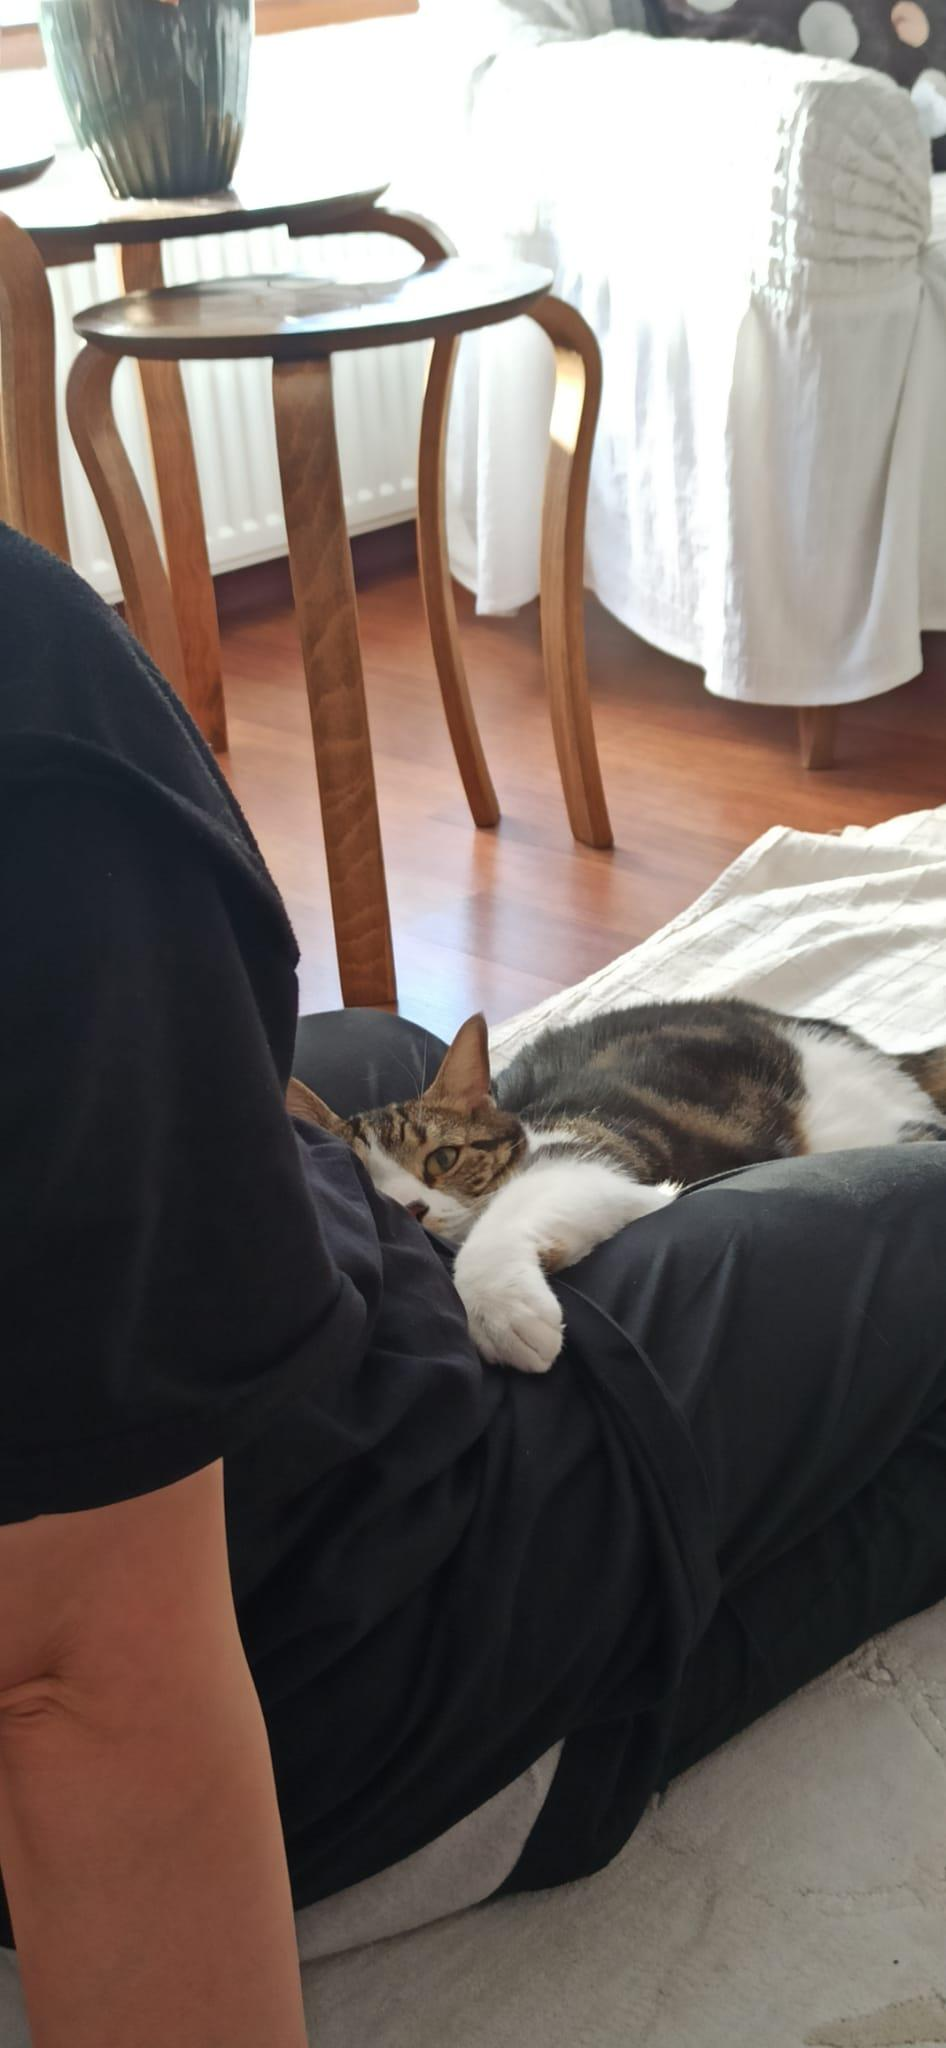kedo: (280, 1016, 608, 1376)
